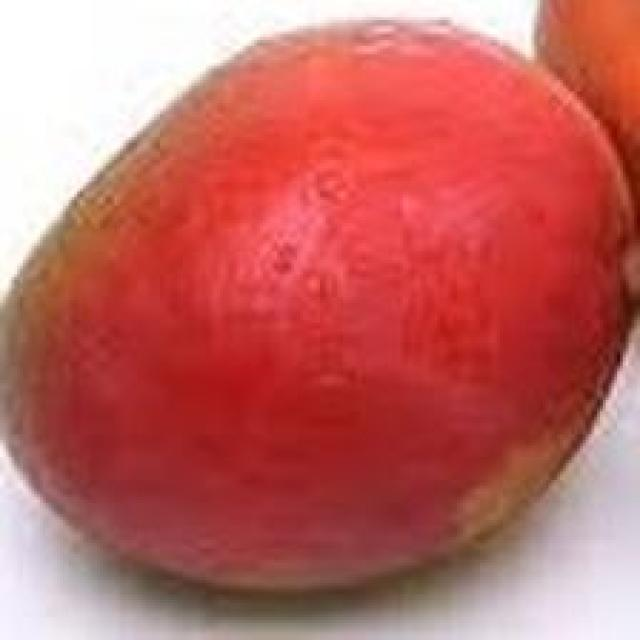Good_Mango: (0, 20, 640, 611)
